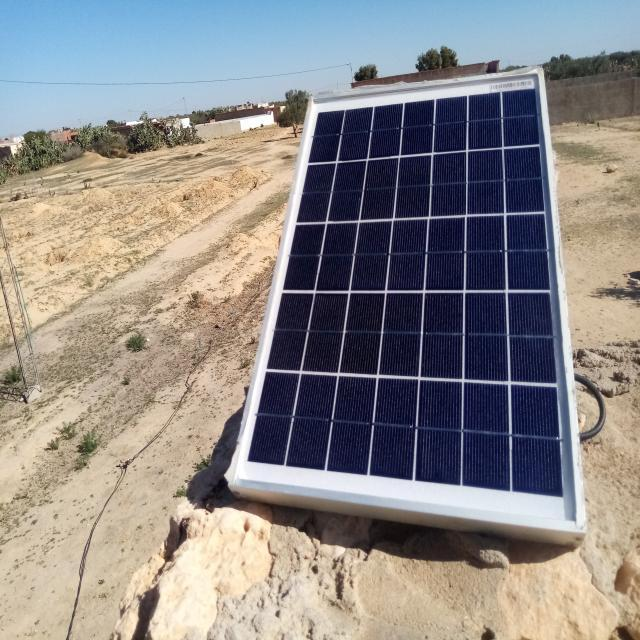no faulty: (231, 72, 585, 533)
